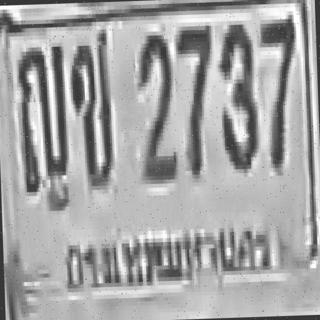A10: (67, 25, 112, 187)
A13: (15, 40, 68, 190)
N02: (136, 29, 176, 178)
N03: (217, 20, 257, 170)
N07: (256, 13, 298, 166), (173, 21, 214, 175)
P04: (55, 214, 280, 306)
